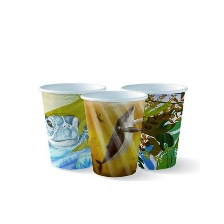paper_cup: (116, 78, 191, 173), (35, 78, 109, 173), (78, 85, 151, 180)
